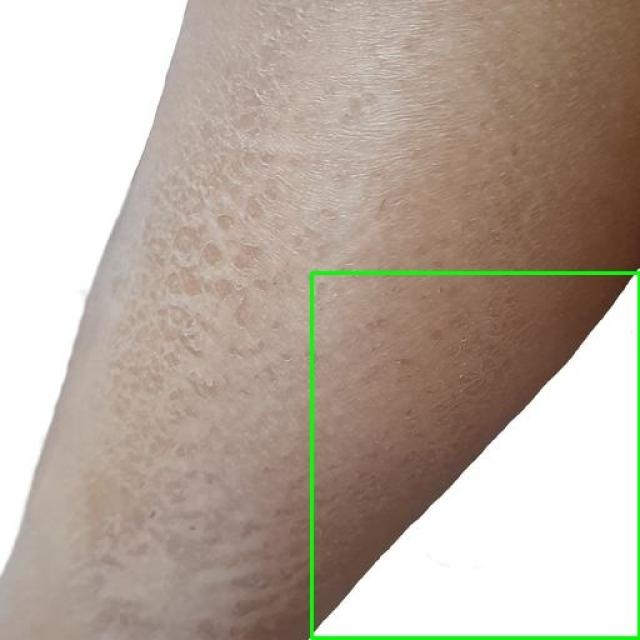Contact Dermatitis: (311, 272, 639, 639)
